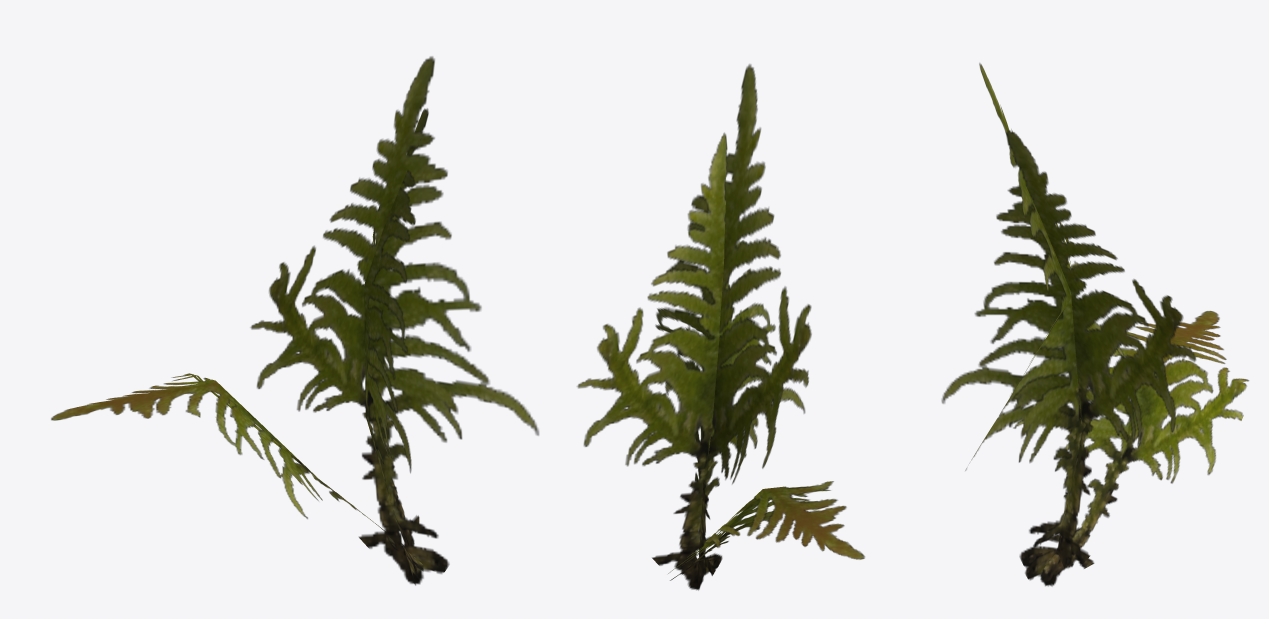
The model's file is moss_00.glb.
3 renders of one model, left to right at view 1: azimuth 30°, elevation 25°; view 2: azimuth 150°, elevation 25°; view 3: azimuth 270°, elevation 25°, orthographic. The views are drawn at different scales.
Visible parts, largest first — view 1: IslandMoss00; view 2: IslandMoss00; view 3: IslandMoss00.
Part boxes in pixels (x1,y1,x2,y2): IslandMoss00: [51, 56, 538, 585]; IslandMoss00: [577, 64, 864, 590]; IslandMoss00: [941, 63, 1248, 586].
Size of the model in its own units: 0.0182 by 0.0277 by 0.014.
Materials: 1 (1 with a texture image).
